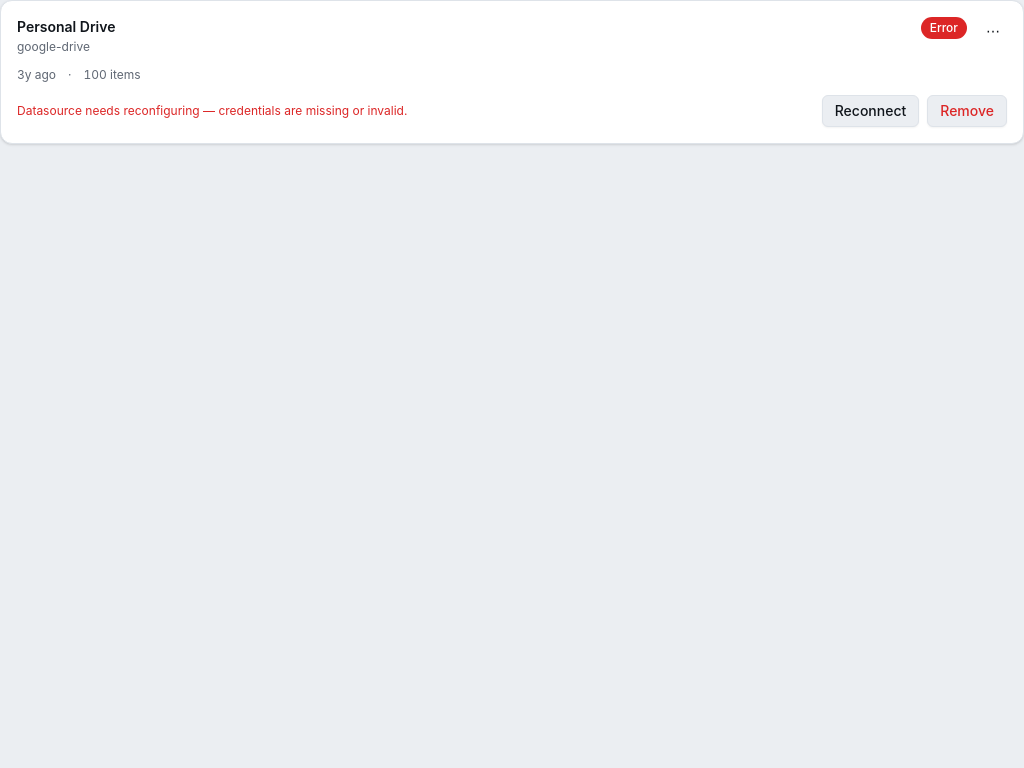
Scenario: InvalidDatasourceBanner — renders iff errorKind is invalid-datasource › Remove click opens the confirm dialog without dispatching IPC; confirming dispatches remove({datasourceId}) exactly once
This screenshot has width=1024, height=768.
Later steps or results of the test are not shown.
Click the button "Remove": (967, 111) [927,95,1007,127]
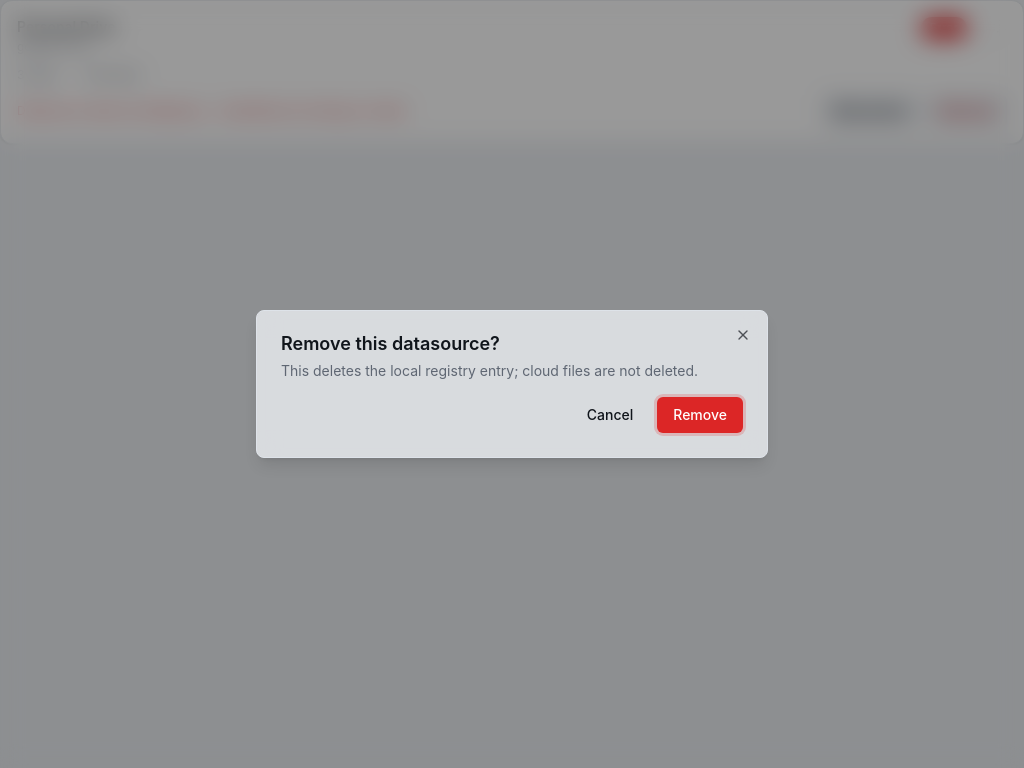
Expected: the dialog is shown, [256,310,768,458]
